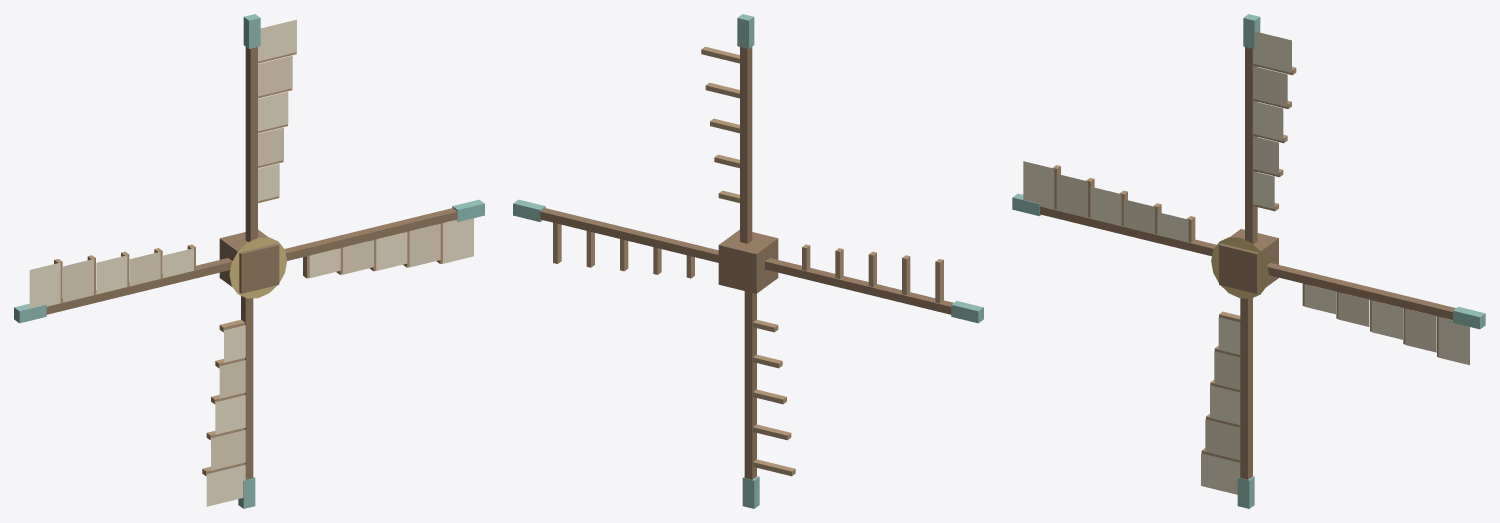
File: ClothSails.glb
3 views of the same model, side by side, from view 1: azimuth 30°, elevation 25°; view 2: azimuth 150°, elevation 25°; view 3: azimuth 330°, elevation 25° (orthographic).
Visible parts, largest first — view 1: ClothSails; view 2: ClothSails; view 3: ClothSails.
Part boxes in pixels (x1,y1,x2,y2): ClothSails: [14, 14, 484, 508]; ClothSails: [513, 14, 983, 508]; ClothSails: [1012, 14, 1485, 508].
Size of the model in its own units: 5.16 by 5.16 by 0.42.
